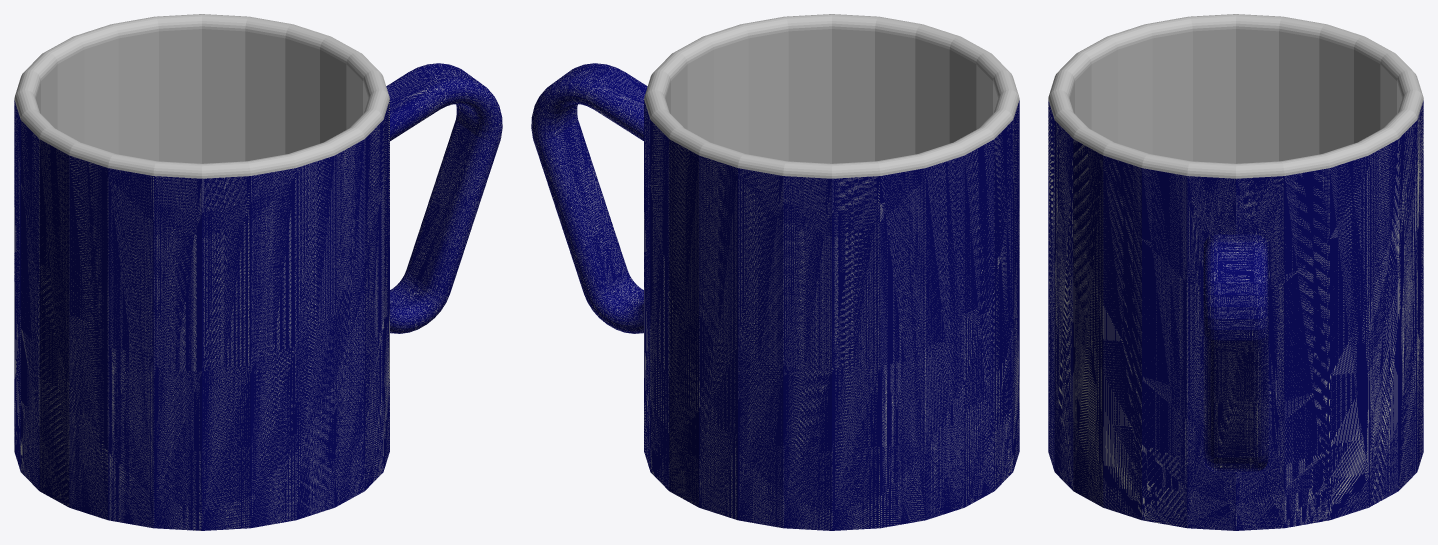
3 views of the same model, side by side, from view 1: azimuth 30°, elevation 25°; view 2: azimuth 150°, elevation 25°; view 3: azimuth 270°, elevation 25° (orthographic).
Parts seen in each view (by area): view 1: mesh1_mesh1-geometry; view 2: mesh1_mesh1-geometry; view 3: mesh1_mesh1-geometry.
Part boxes in pixels (left/top/right/bottom): mesh1_mesh1-geometry: left=14, top=14, right=502, bottom=530; mesh1_mesh1-geometry: left=531, top=14, right=1019, bottom=530; mesh1_mesh1-geometry: left=1048, top=14, right=1423, bottom=530.
Size of the model in its own units: 0.6896 by 0.5274 by 0.4962.
